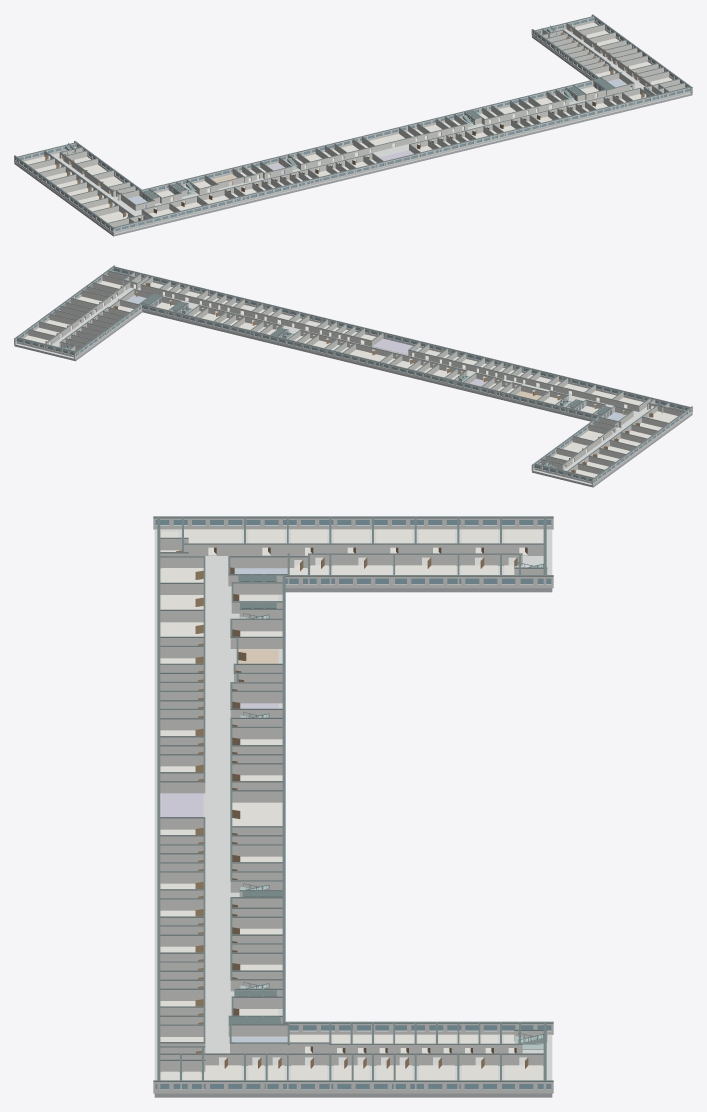
3 views of the same model, one above another, from view 1: azimuth 30°, elevation 25°; view 2: azimuth 150°, elevation 25°; view 3: azimuth 270°, elevation 25° (orthographic). The views are drawn at different scales.
Visible parts, largest first — view 1: wall, cap, room, floor, glass, slab, door, stair; view 2: wall, cap, room, glass, floor, slab, door, place; view 3: wall, cap, room, floor, glass, slab, door, place.
Part boxes in pixels (x1,y1,x2,y2): wall: (14,15,692,234); cap: (14,14,692,228); room: (24,22,672,222); floor: (14,22,690,234); glass: (15,18,690,231); slab: (14,36,692,236); door: (45,27,650,220); stair: (65,27,574,195); wall: (14,266,692,485); cap: (14,265,692,479); room: (24,279,677,477); glass: (15,268,690,482); floor: (16,281,692,485); slab: (14,310,692,487); door: (45,283,653,472); place: (373,338,487,386); wall: (153,518,553,1093); cap: (153,516,553,1081); room: (161,529,542,1080); floor: (154,529,552,1093); glass: (155,520,551,1089); slab: (154,588,552,1097); door: (176,547,528,1068); place: (161,703,278,816).
Bounding box in the file's own units: 1885 × 30.49 × 564.
